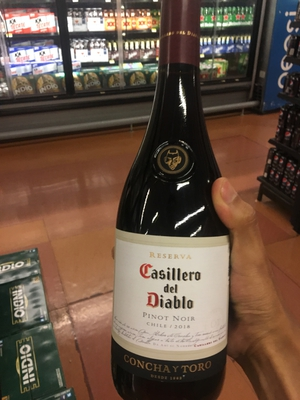casillero del diablo pinot noir: (90, 8, 243, 400)
